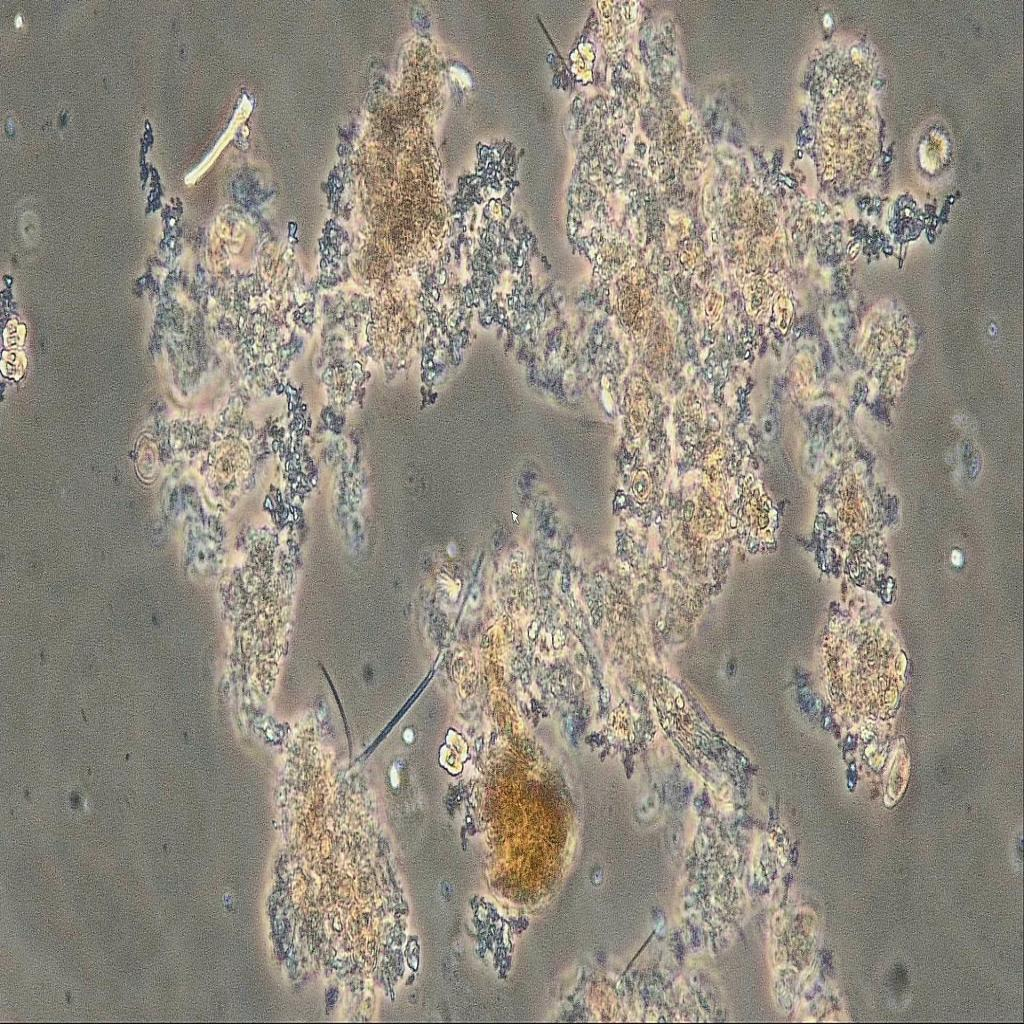Aspidisca: (879, 728, 923, 818)
